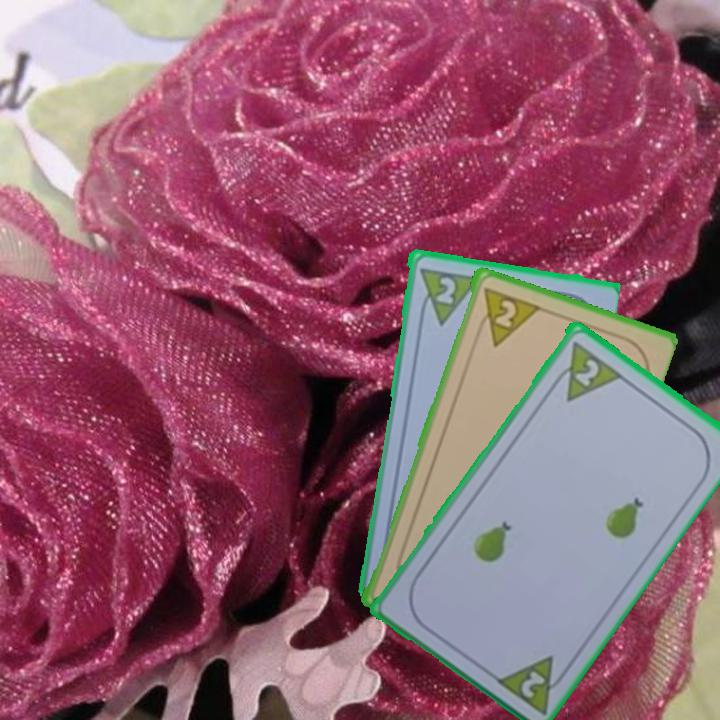2p: (491, 651, 573, 716), (546, 336, 624, 404), (473, 283, 540, 349), (415, 263, 479, 327)
